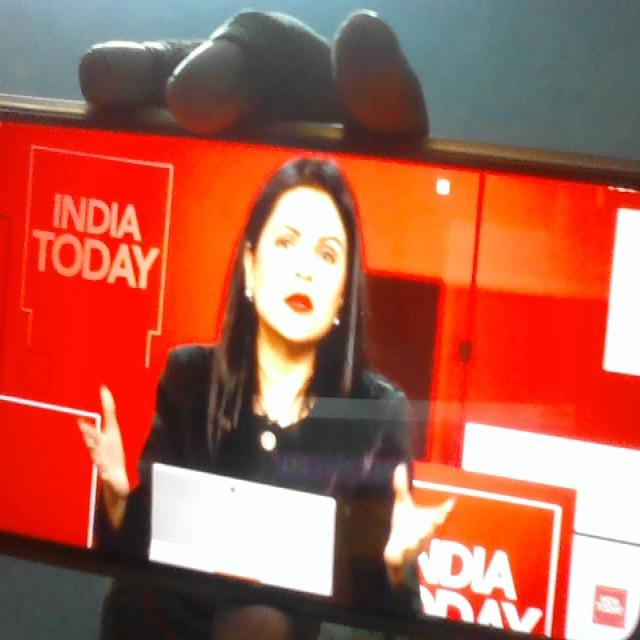fake: (232, 134, 370, 394)
